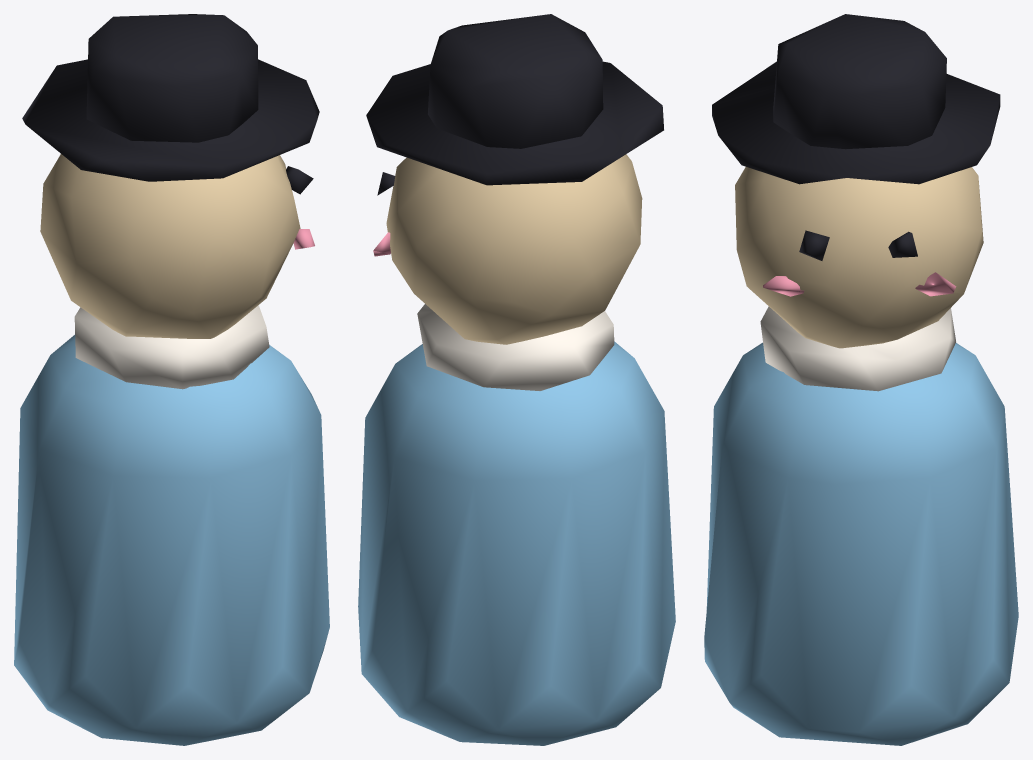
File: peg_c.glb
3 renders of one model, left to right at view 1: azimuth 30°, elevation 25°; view 2: azimuth 150°, elevation 25°; view 3: azimuth 270°, elevation 25°, orthographic.
Visible parts, largest first — view 1: peg_c; view 2: peg_c; view 3: peg_c.
Boxes of the visible parts, x1=… form: peg_c: x1=14, y1=14, x2=329, y2=745; peg_c: x1=358, y1=14, x2=675, y2=745; peg_c: x1=704, y1=14, x2=1018, y2=745.
Size of the model in its own units: 0.3128 by 0.7177 by 0.3146.
Materials: 1 (1 with a texture image).
